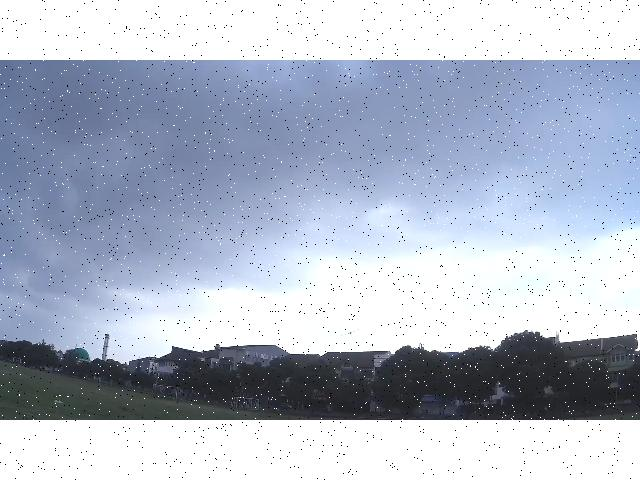Anti-Drone: (336, 326, 362, 338)
